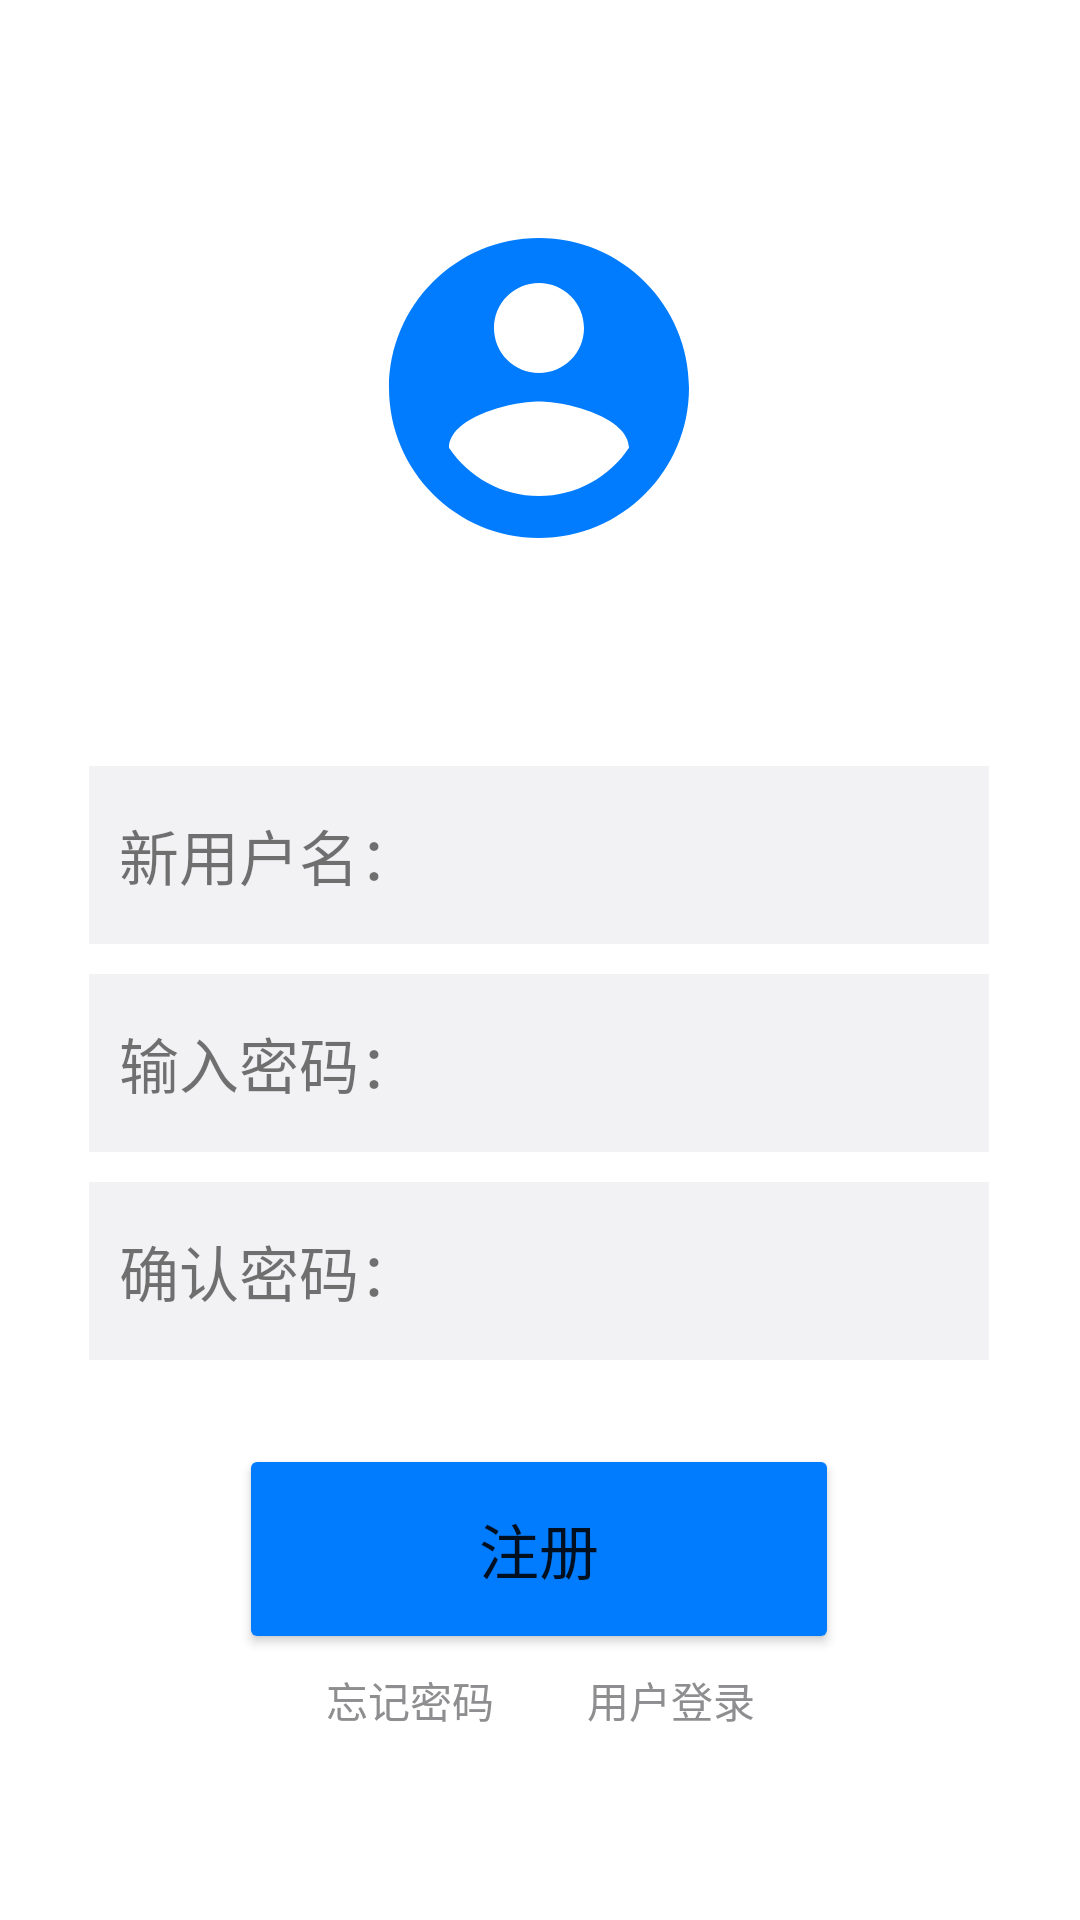

Named icons in this screenshot (1080 x 1920) and their bounding boxes, (left=x1, top=y1, right=x2, bottom=y2):
user: (left=389, top=238, right=689, bottom=538)
